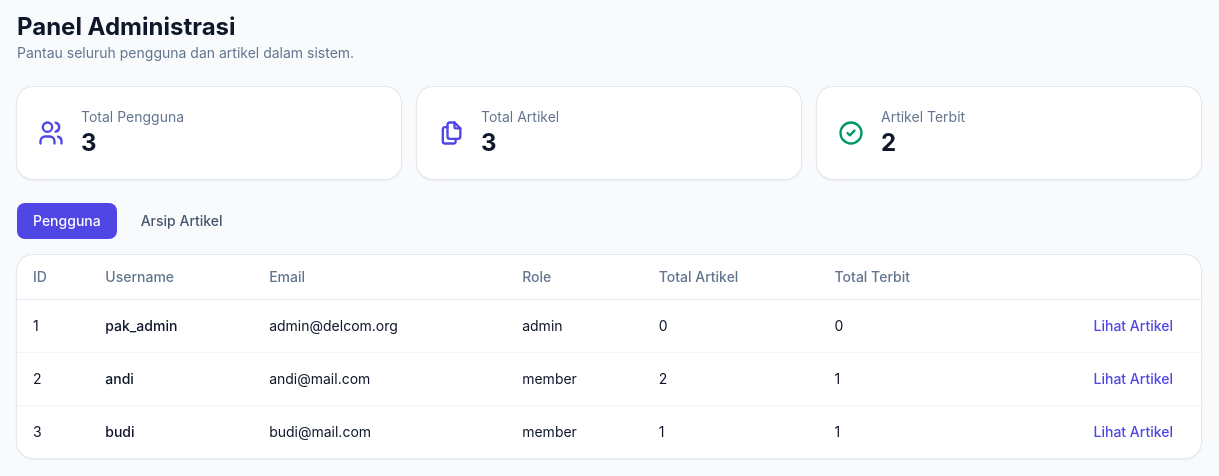
Scenario: AdminDashboard › arsip kosong menampilkan pesan
Expected: the text "pak_admin" is shown, [89,300,253,352]
Click the tab "Arsip Artikel" at (182, 221), box [125,203,239,239]
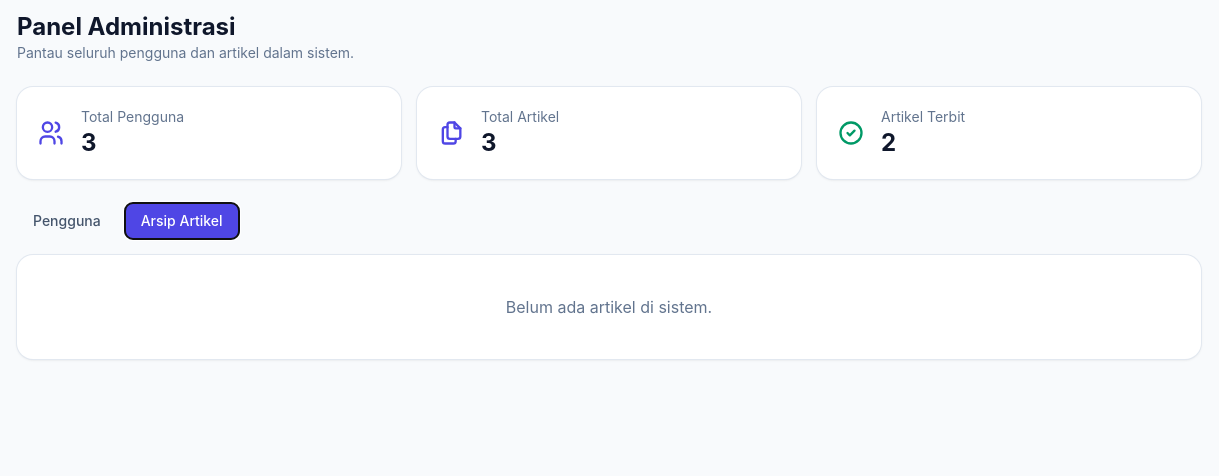
Expected: the text "Belum ada artikel di sistem." is shown, [506,297,712,317]
